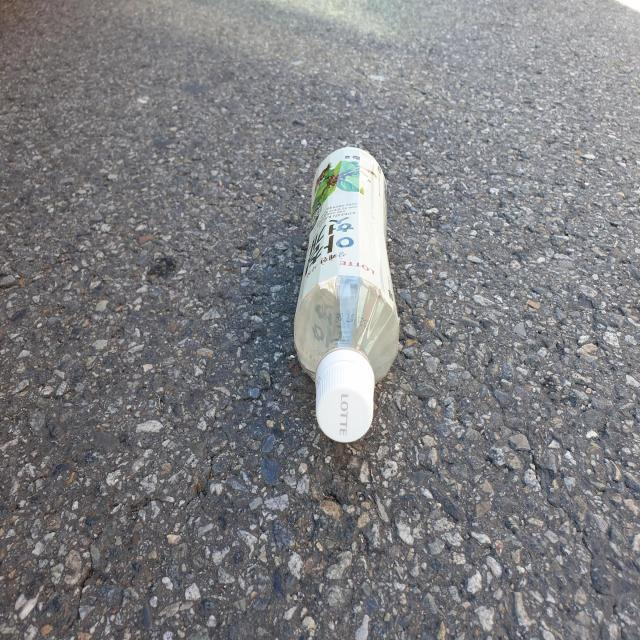plastic: (294, 146, 400, 443)
